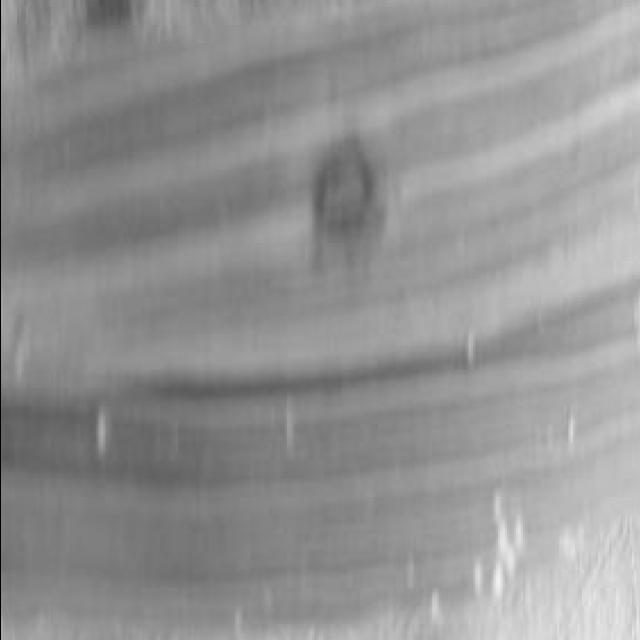Brown_Spot: (279, 116, 409, 296)
